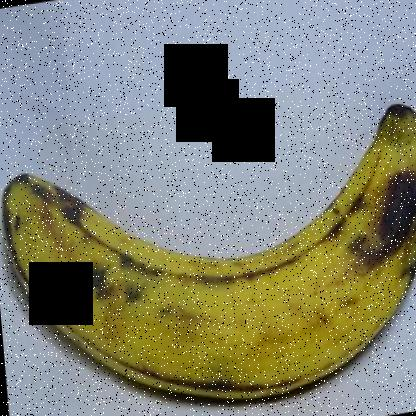ripe: (1, 97, 415, 415)
